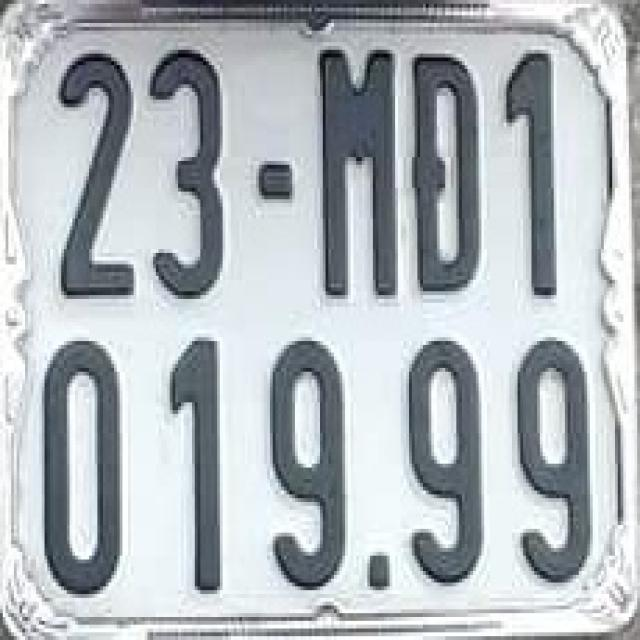0: (34, 329, 134, 602)
1: (159, 326, 239, 598), (498, 46, 571, 299)
2: (50, 42, 142, 303)
3: (145, 42, 231, 303)
9: (259, 326, 353, 594), (395, 330, 490, 590), (509, 330, 596, 582)
D: (409, 50, 487, 299)
M: (312, 38, 406, 299)
